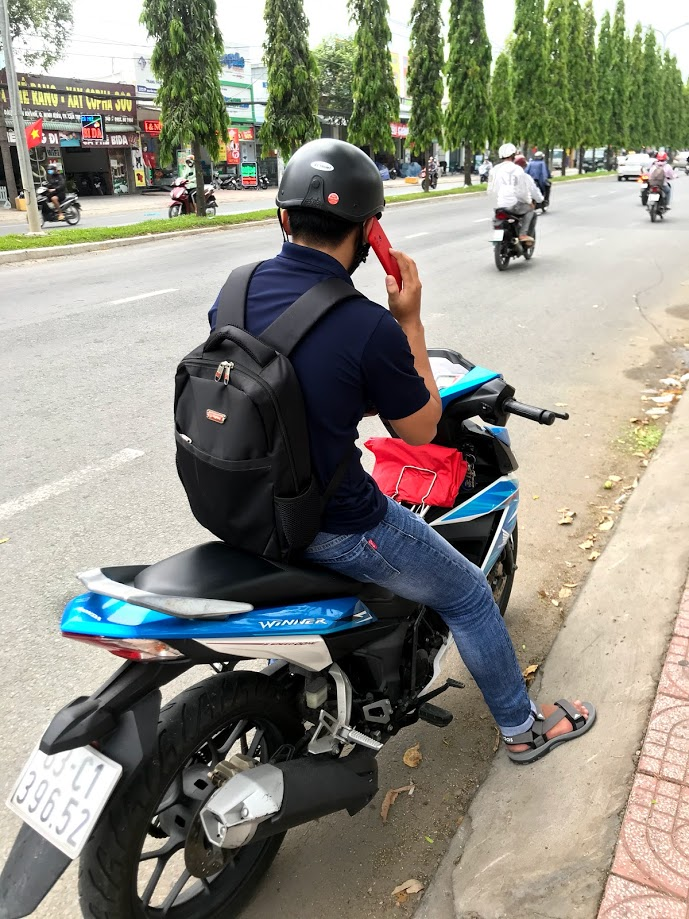su dung dien thoai: (275, 138, 423, 339)
